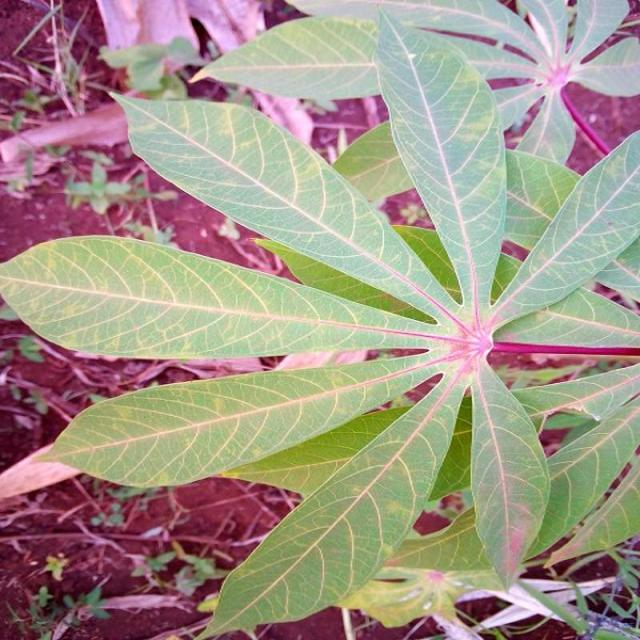cassava leaf: (2, 5, 640, 637)
